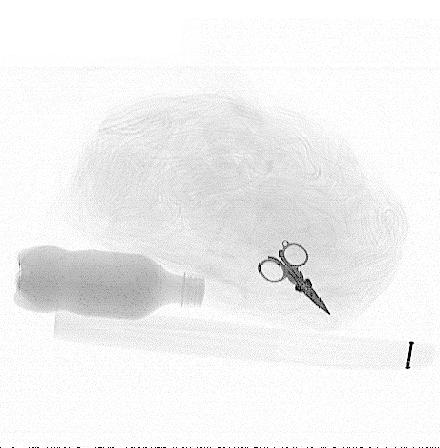Scissors: (258, 239, 331, 317)
